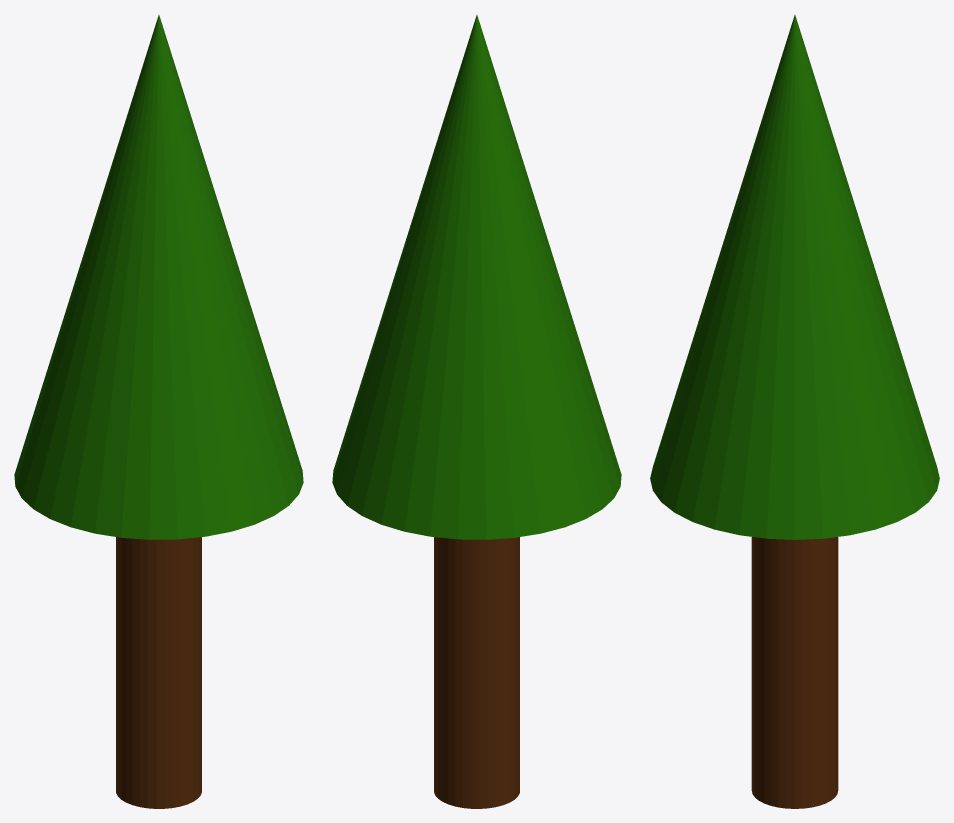
The picture shows the model from 3 angles, left to right: view 1: azimuth 30°, elevation 25°; view 2: azimuth 150°, elevation 25°; view 3: azimuth 270°, elevation 25°; orthographic projection.
Parts seen in each view (by area): view 1: 円柱; view 2: 円柱; view 3: 円柱.
Boxes of the visible parts, x1=… form: 円柱: x1=14, y1=15, x2=303, y2=808; 円柱: x1=332, y1=15, x2=621, y2=808; 円柱: x1=650, y1=15, x2=939, y2=808.
Bounding box in the file's own units: 300 × 888 × 300.
